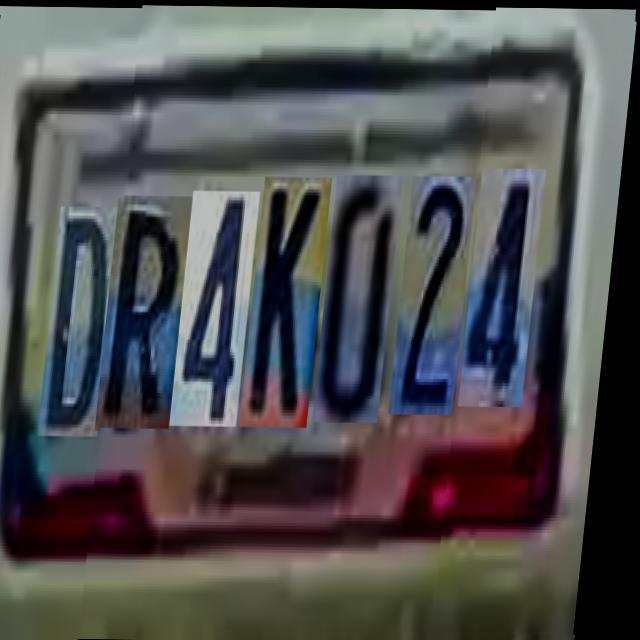0: (322, 174, 406, 422)
2: (398, 174, 480, 413)
4: (178, 190, 264, 426), (466, 170, 550, 408)
D: (47, 204, 126, 434)
K: (248, 176, 336, 427)
R: (104, 195, 197, 428)
